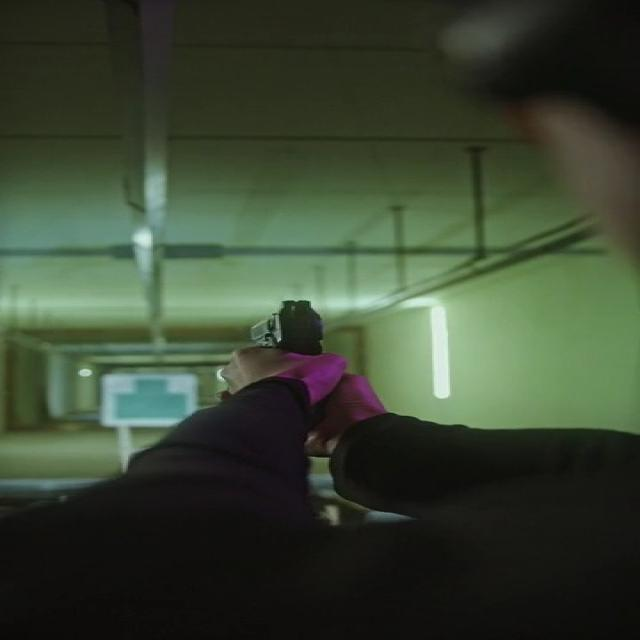Gun_Holder: (176, 291, 420, 444)
